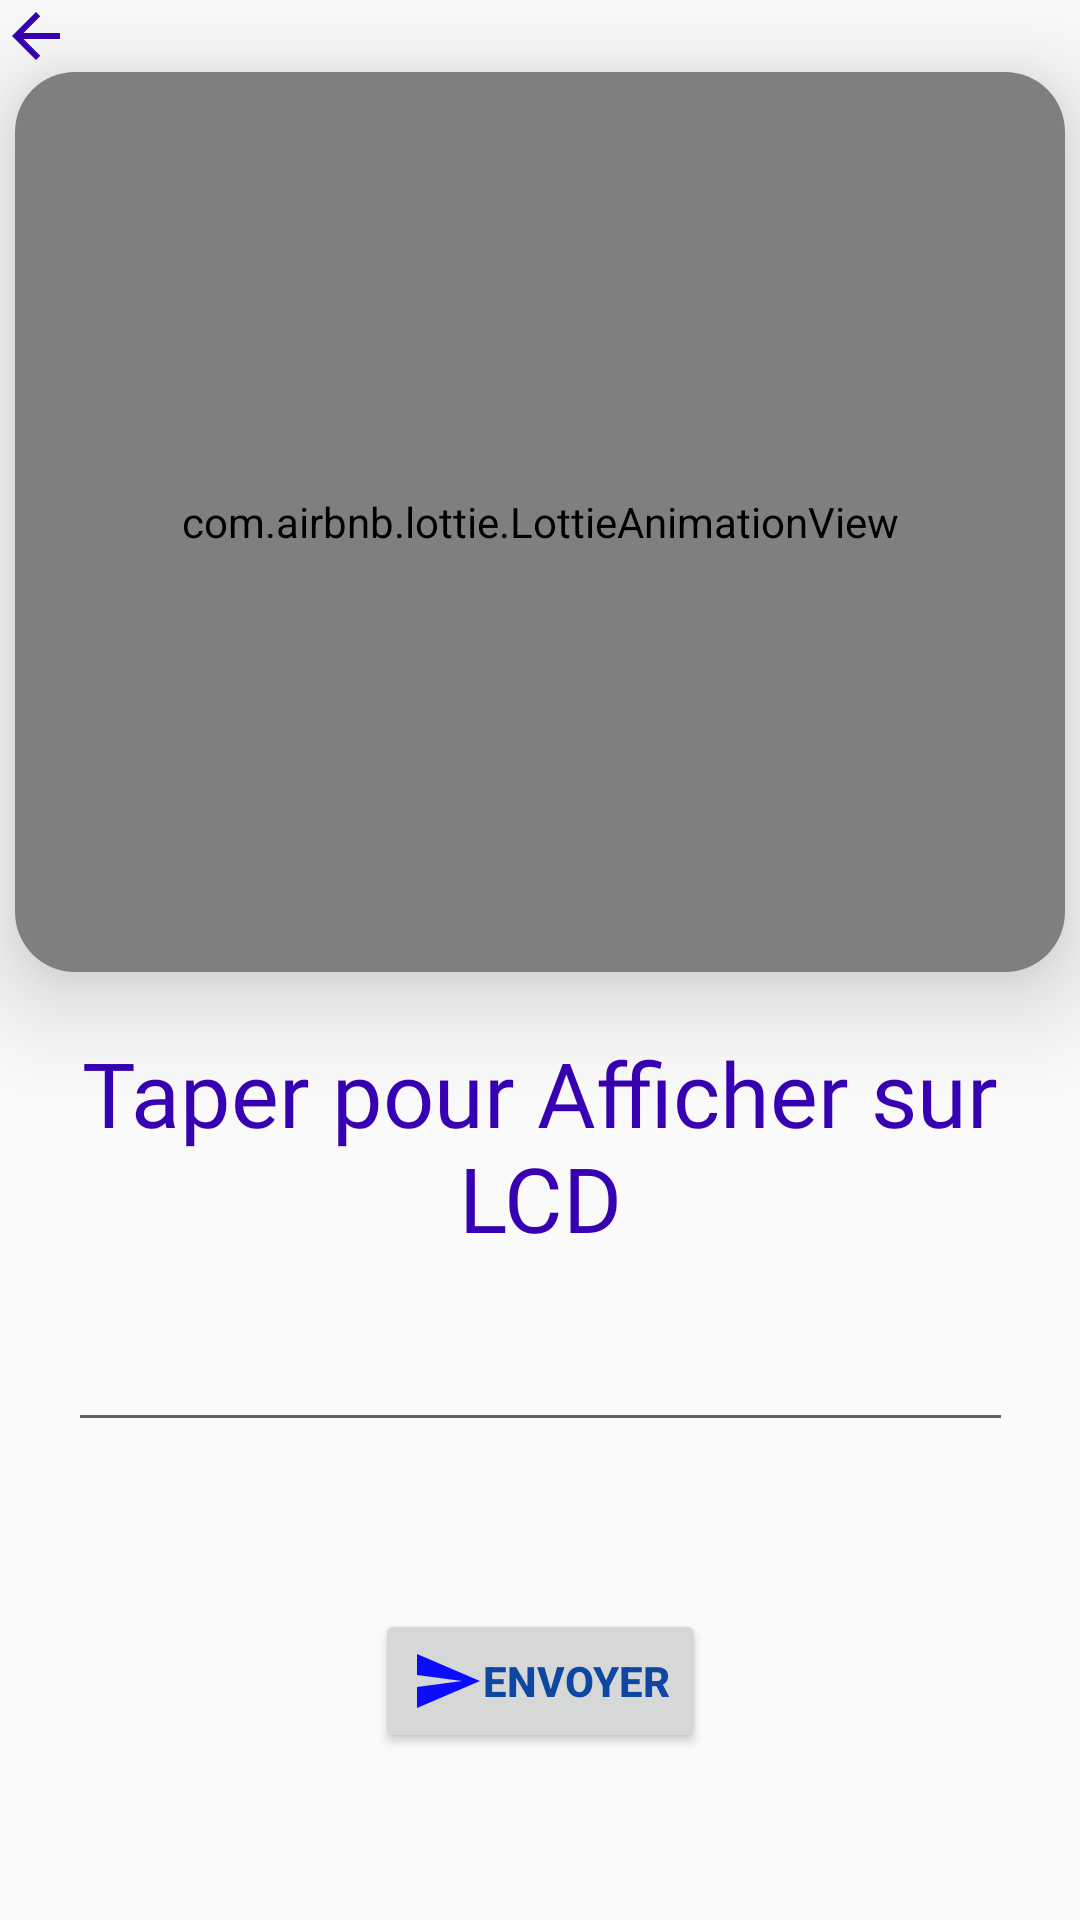

Screen size 1080 × 1920. Icon name, then its center in pixels as (x=x, y=y):
arrow back: (x=36, y=36)
